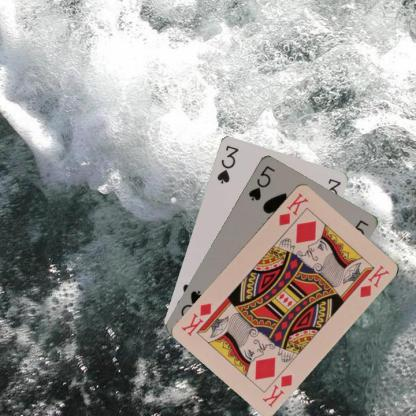3s: (214, 142, 240, 185)
5s: (246, 162, 276, 202)
Kd: (276, 190, 310, 227), (260, 371, 294, 408)
